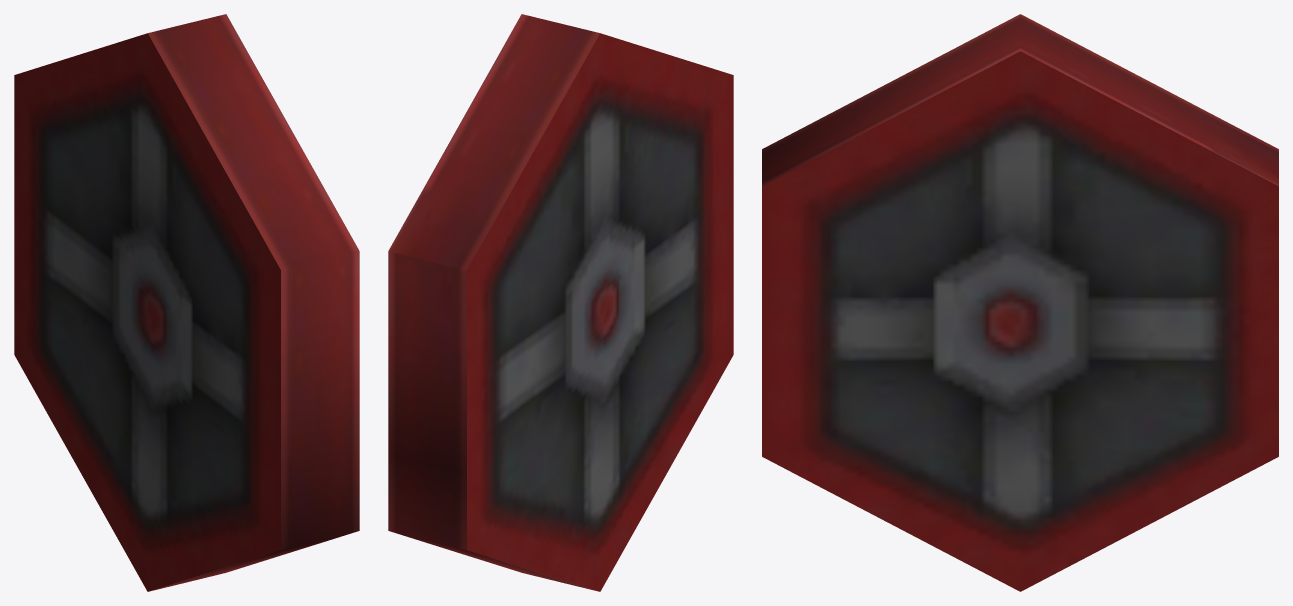
Rendered from action_03_31bf34cc__zombies2_diffuse_07_65562b6b_c1f257.obj.
3 views of the same model, side by side, from view 1: azimuth 30°, elevation 25°; view 2: azimuth 150°, elevation 25°; view 3: azimuth 270°, elevation 25° (orthographic). The views are drawn at different scales.
Bounding box in the file's own units: 0.1825 × 1.24 × 1.07.
1 material, 1 textured.
